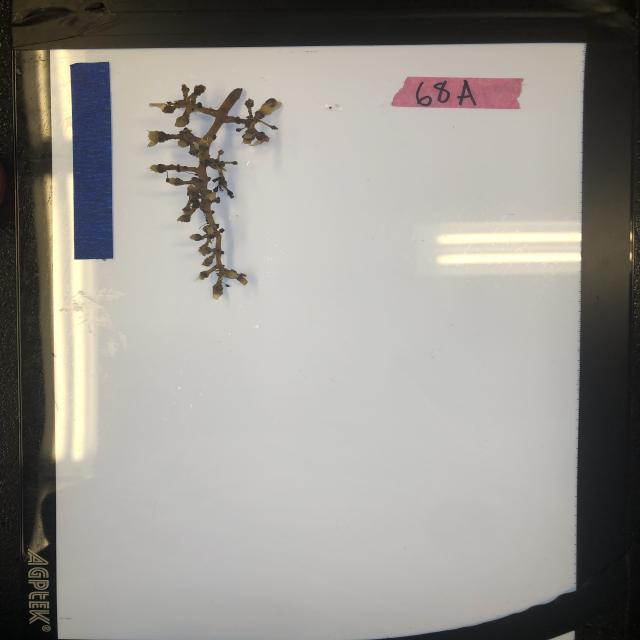index: (391, 74, 524, 110)
measure_label: (69, 62, 115, 260)
rachis_cluster: (145, 83, 286, 300)
